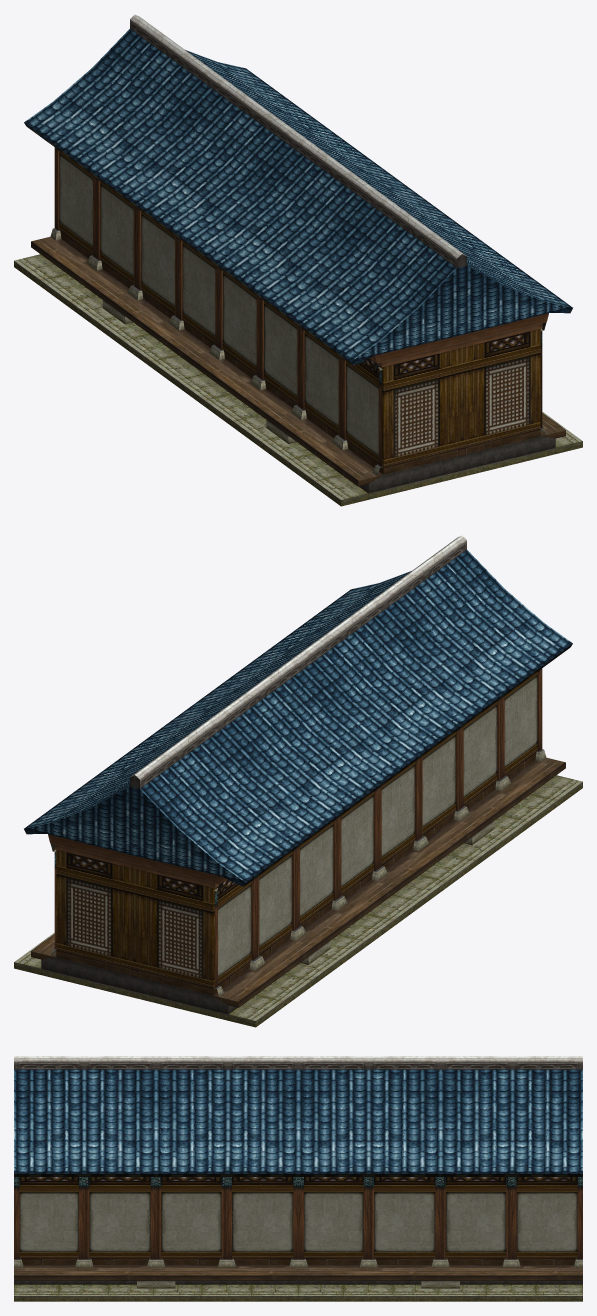
The model's file is secret_wall_11.fbx.
3 views of the same model, one above another, from view 1: azimuth 30°, elevation 25°; view 2: azimuth 150°, elevation 25°; view 3: azimuth 270°, elevation 25° (orthographic). The views are drawn at different scales.
Visible parts, largest first — view 1: secret_wall_11; view 2: secret_wall_11; view 3: secret_wall_11.
Boxes of the visible parts, x1,y1,x2,y2 form: secret_wall_11: [14, 14, 582, 506]; secret_wall_11: [14, 535, 582, 1027]; secret_wall_11: [14, 1056, 582, 1301].
Size of the model in its own units: 12.8 by 11.29 by 30.
